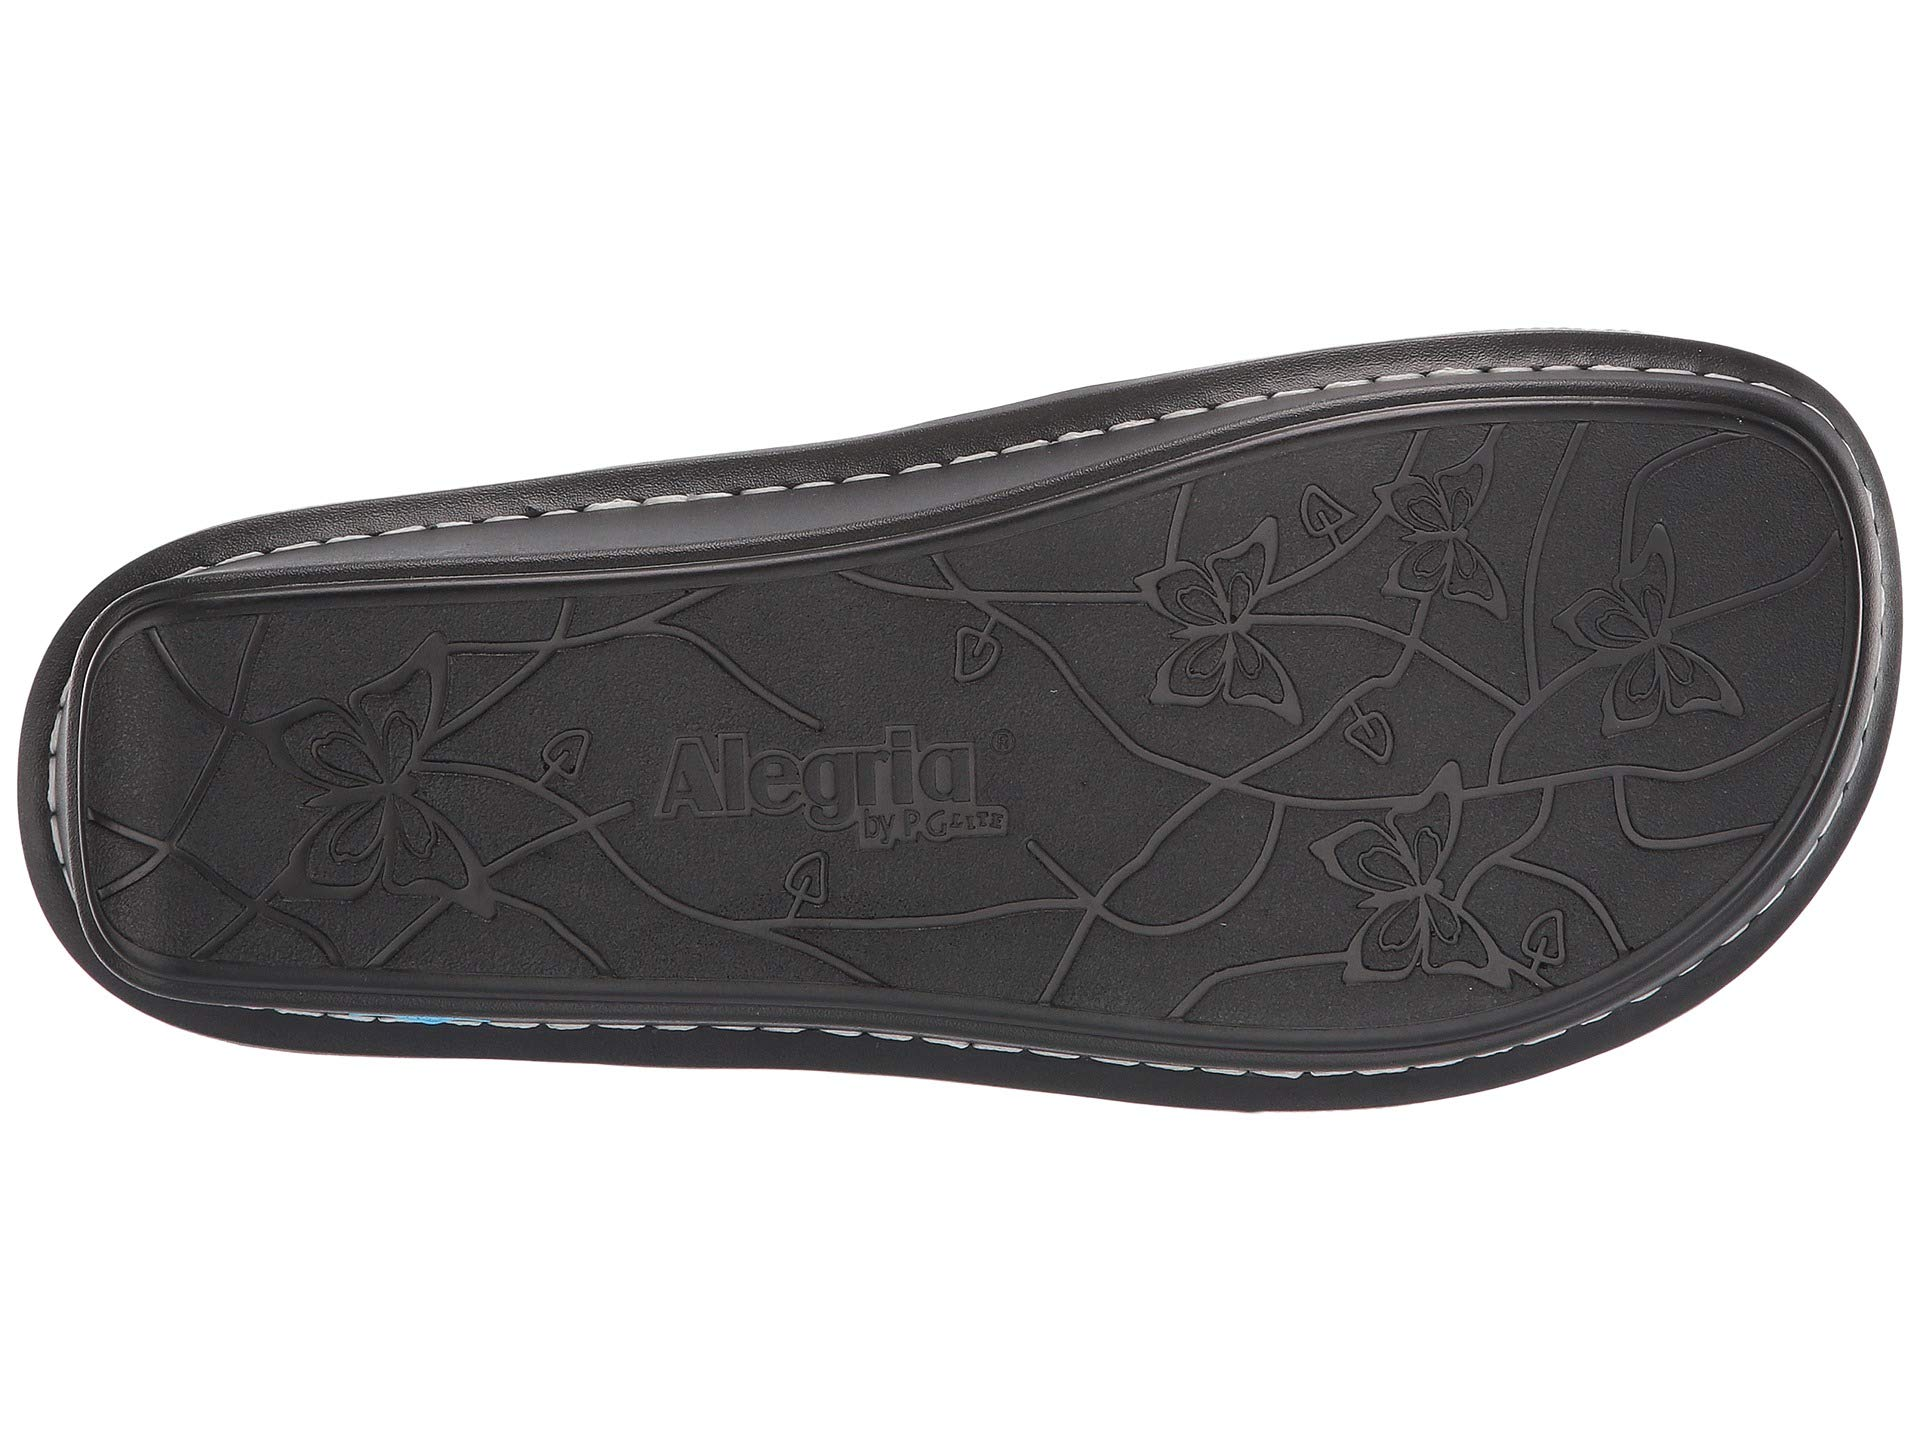bowtie: (1358, 414, 1779, 799), (200, 619, 497, 944), (1308, 753, 1539, 1021), (1114, 507, 1324, 759)
text: (643, 684, 1023, 982)
